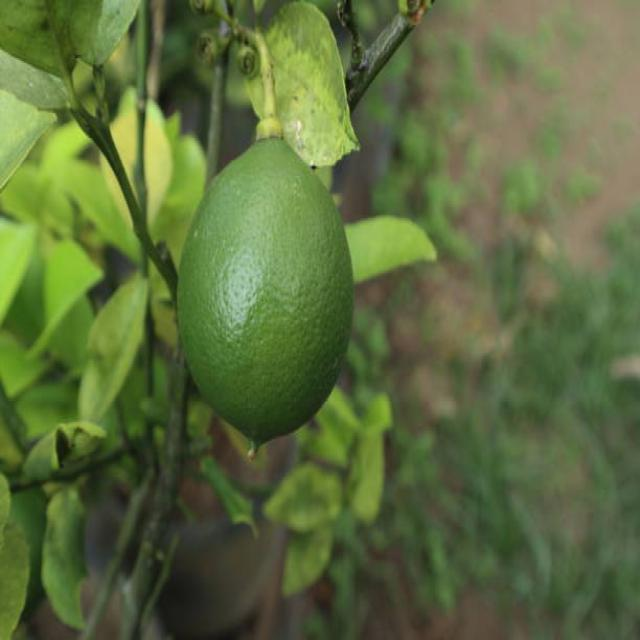Unripe: (177, 134, 354, 448)
